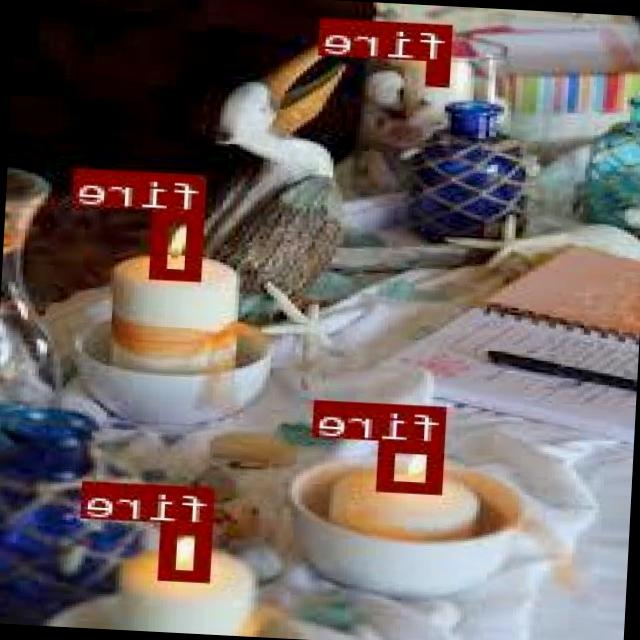fire: (380, 438, 448, 492), (156, 210, 208, 278), (162, 523, 212, 581), (429, 23, 454, 84)
